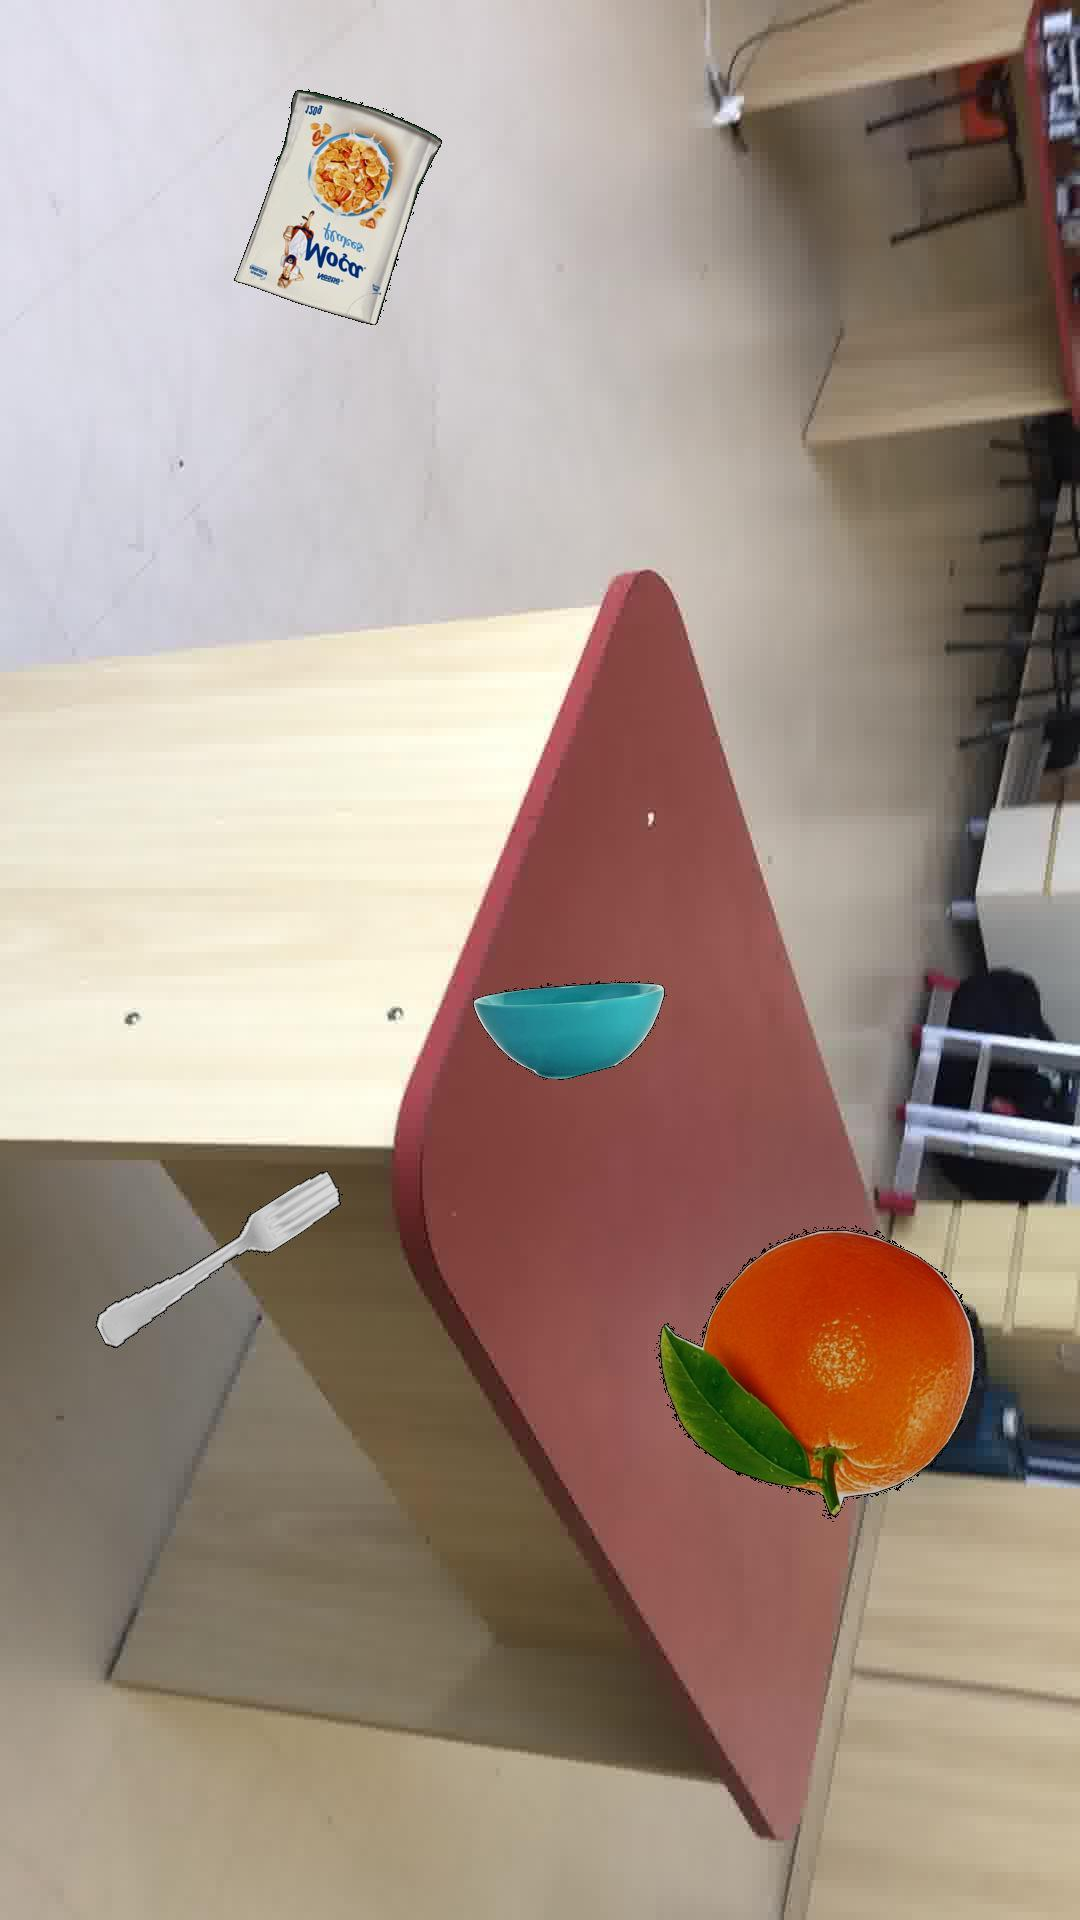bowl: (472, 980, 663, 1079)
corn flakes: (232, 88, 440, 323)
fork: (95, 1170, 339, 1346)
orange: (657, 1226, 976, 1516)
